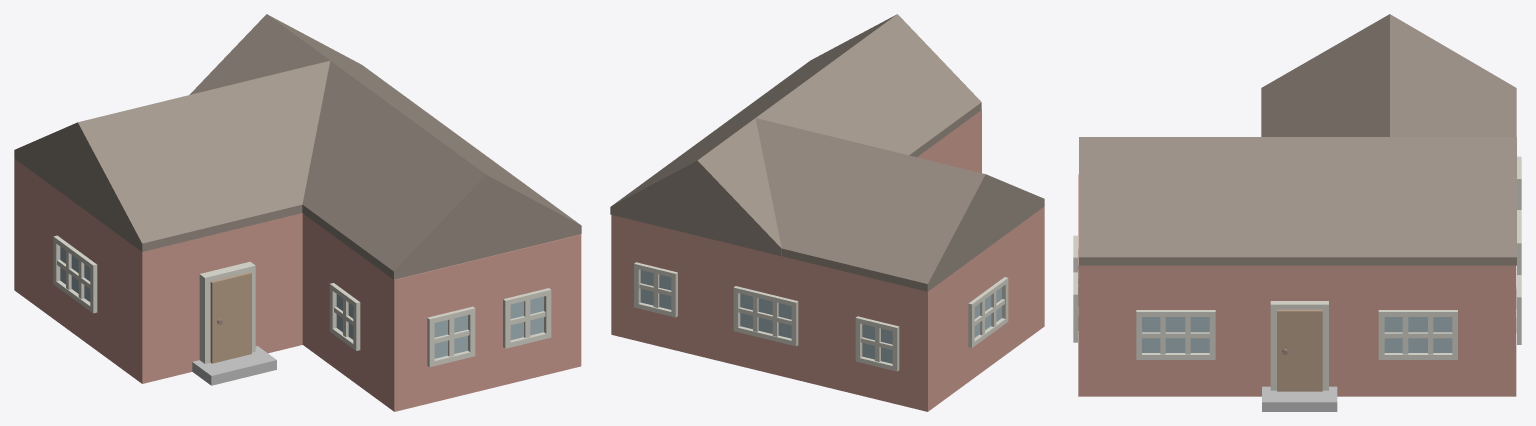
Rendered from house01.fbx.
The picture shows the model from 3 angles, left to right: view 1: azimuth 30°, elevation 25°; view 2: azimuth 150°, elevation 25°; view 3: azimuth 270°, elevation 25°; orthographic projection. The views are drawn at different scales.
Visible parts, largest first — view 1: house01, roof01, roof02, door5 (×3), doorCentre, doorFrame, step, pPlane1 (×2), door9, door17, pPlane2; view 2: house01, roof01, roof02, door9 (×2), door5 (×2), pPlane2 (×2), pPlane1 (×2), door17 (×2), door14; view 3: roof01, house01, roof02, doorCentre, pPlane2 (×2), door9 (×2), door17 (×2), step, doorFrame.
Part boxes in pixels (x1,y1,x2,y2): house01: (14, 159, 581, 411); roof01: (189, 14, 581, 279); roof02: (14, 61, 330, 251); door5 (×3): (329, 283, 551, 367); doorCentre: (210, 272, 251, 363); doorFrame: (199, 261, 255, 363); step: (192, 346, 276, 385); pPlane1 (×2): (434, 296, 543, 358); door9: (53, 235, 97, 313); door17: (57, 251, 90, 298); pPlane2: (60, 247, 90, 301); house01: (611, 110, 1044, 411); roof01: (610, 14, 981, 256); roof02: (755, 118, 1044, 291); door9 (×2): (733, 277, 1008, 347); door5 (×2): (634, 262, 899, 371); pPlane2 (×2): (740, 287, 1001, 338); pPlane1 (×2): (640, 270, 892, 363); door17 (×2): (738, 291, 1004, 336); door14: (639, 273, 671, 307); roof01: (1079, 137, 1516, 265); house01: (1078, 174, 1516, 396); roof02: (1261, 14, 1516, 136); doorCentre: (1277, 309, 1322, 391); pPlane2 (×2): (1142, 317, 1452, 352); door9 (×2): (1136, 310, 1457, 359); door17 (×2): (1142, 317, 1452, 354); step: (1262, 386, 1337, 411); doorFrame: (1270, 301, 1328, 390).
Bounding box in the file's own units: 6.44 × 3.44 × 6.54.
